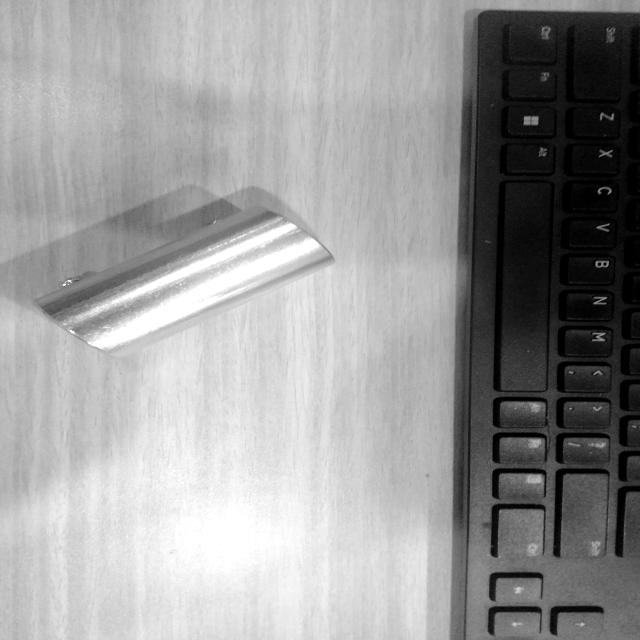Co_Lon: (32, 181, 336, 379)
